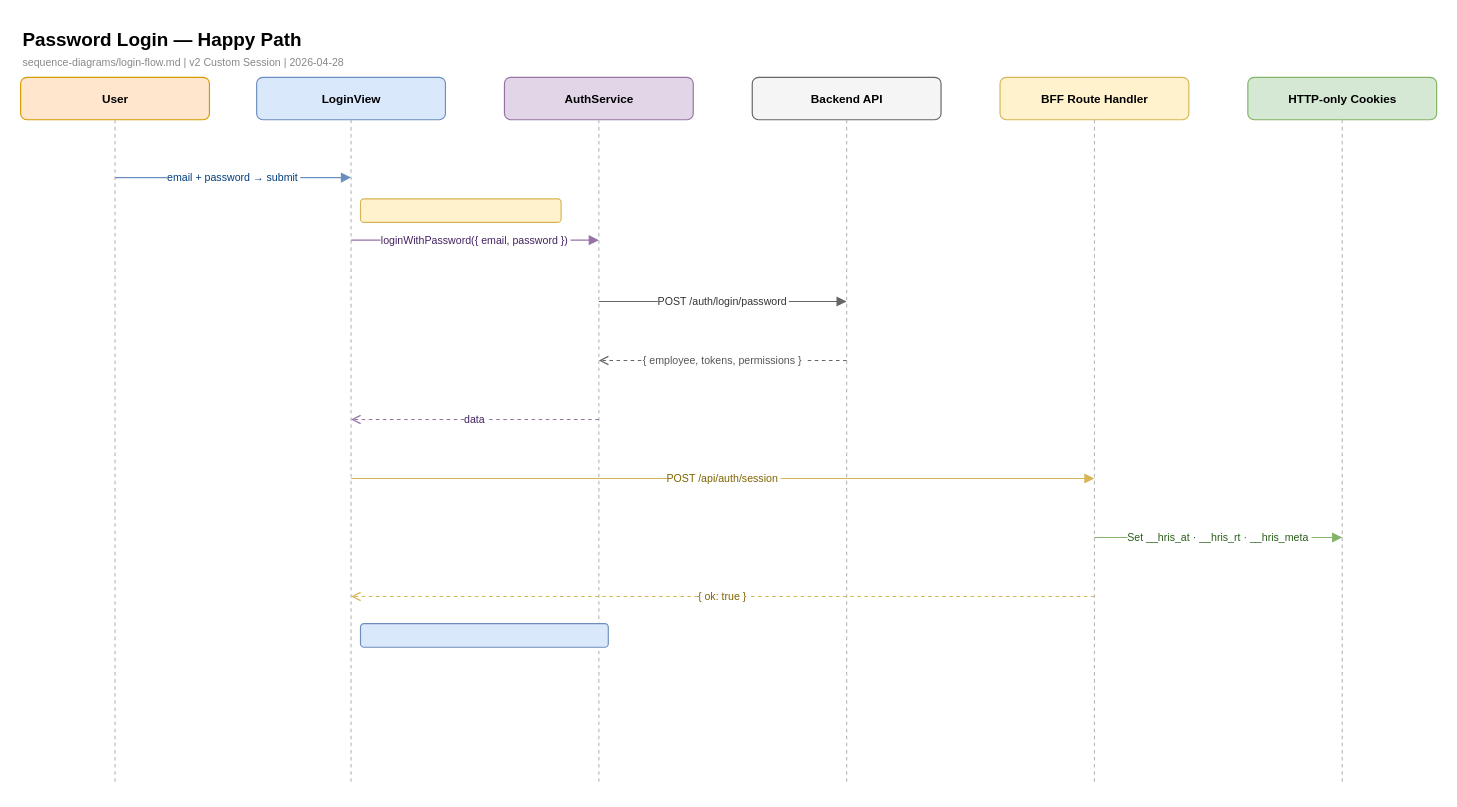
Some shapes in this 1457 by 807 pixel diagram are drawn without their labels. Each missing label, with the centre of its shape:
"[self] router.push('/login/continue')" goes at [483,634].
"[self] Zod validate form" goes at [460,210].
